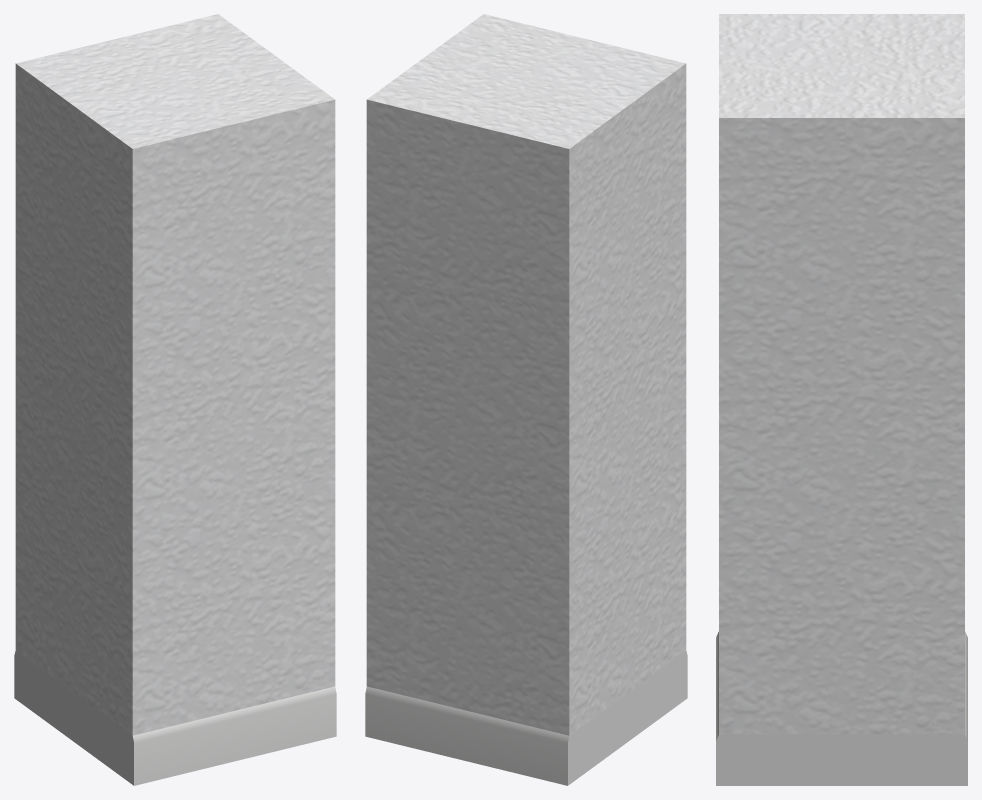
Rendered from scene_wall_plain.fbx.
The picture shows the model from 3 angles, left to right: view 1: azimuth 30°, elevation 25°; view 2: azimuth 150°, elevation 25°; view 3: azimuth 270°, elevation 25°; orthographic projection. The views are drawn at different scales.
Parts seen in each view (by area): view 1: mesh_wall_plain; view 2: mesh_wall_plain; view 3: mesh_wall_plain.
Boxes of the visible parts, <box> form: mesh_wall_plain: <box>14,14,336,785</box>; mesh_wall_plain: <box>365,14,687,785</box>; mesh_wall_plain: <box>716,14,967,785</box>.
Bounding box in the file's own units: 1 × 3 × 1.02.
Materials: 1 (1 with a texture image).
